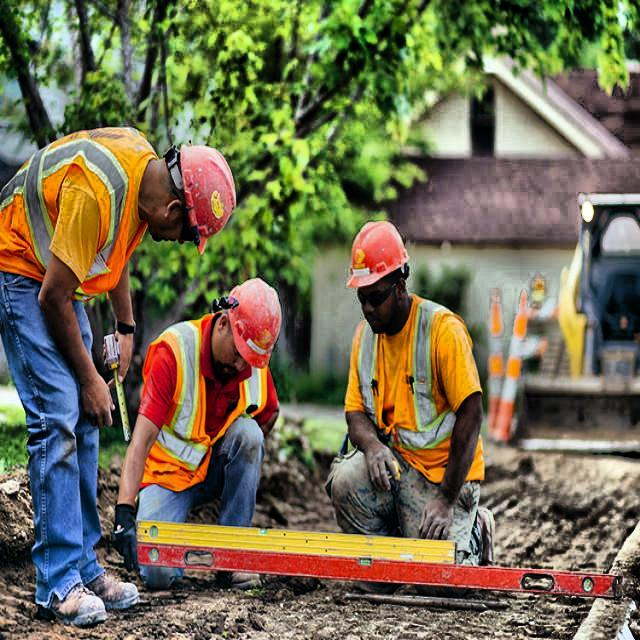person: (1, 127, 238, 640), (332, 222, 487, 574), (125, 280, 288, 603)
